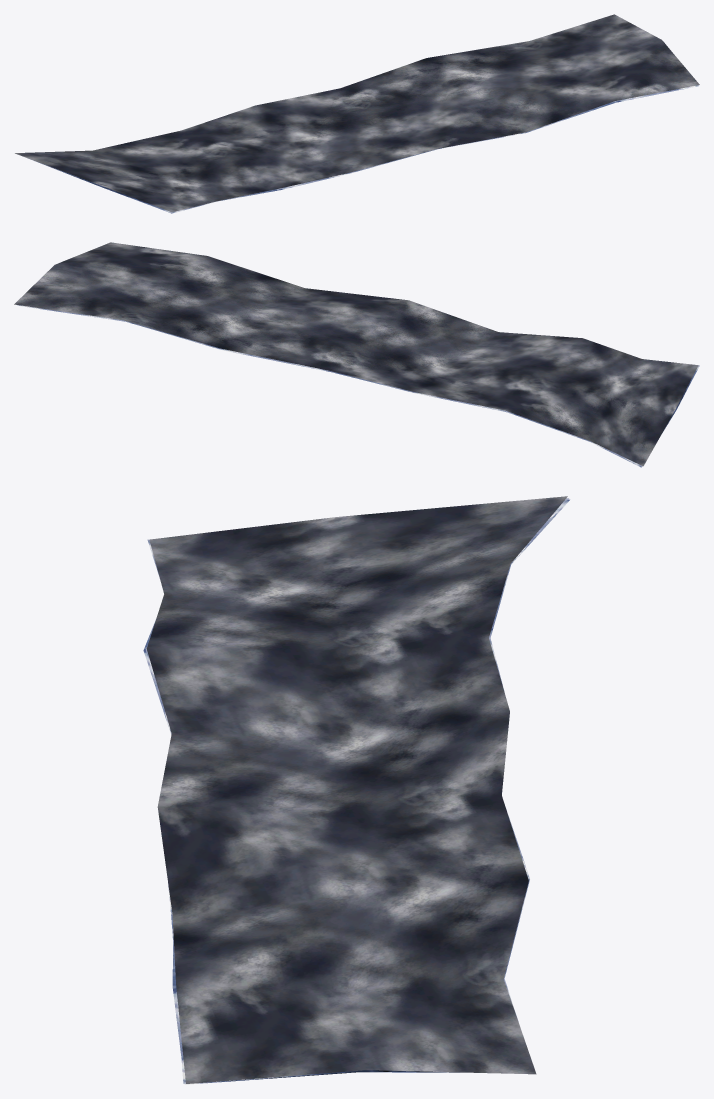
Rendered from LONE_MOUNTAIN_WATERFALLS_ARKENSTONE_WATERWAY03.fbx.
The picture shows the model from 3 angles, top to bottom: view 1: azimuth 30°, elevation 25°; view 2: azimuth 150°, elevation 25°; view 3: azimuth 270°, elevation 25°; orthographic projection. The views are drawn at different scales.
Visible parts, largest first — view 1: LONE_MOUNTAIN_WATERFALLS_ARKENSTONE_WATERWAY03; view 2: LONE_MOUNTAIN_WATERFALLS_ARKENSTONE_WATERWAY03; view 3: LONE_MOUNTAIN_WATERFALLS_ARKENSTONE_WATERWAY03.
Boxes of the visible parts, box(x1,y1,x2,y2) form: LONE_MOUNTAIN_WATERFALLS_ARKENSTONE_WATERWAY03: box(15, 14, 699, 213); LONE_MOUNTAIN_WATERFALLS_ARKENSTONE_WATERWAY03: box(14, 242, 699, 467); LONE_MOUNTAIN_WATERFALLS_ARKENSTONE_WATERWAY03: box(143, 496, 569, 1084).
Size of the model in its own units: 131807 by 2741 by 40783.
2 materials, 2 textured.
